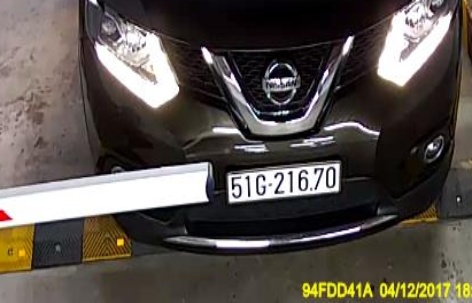plate: (221, 160, 346, 208)
